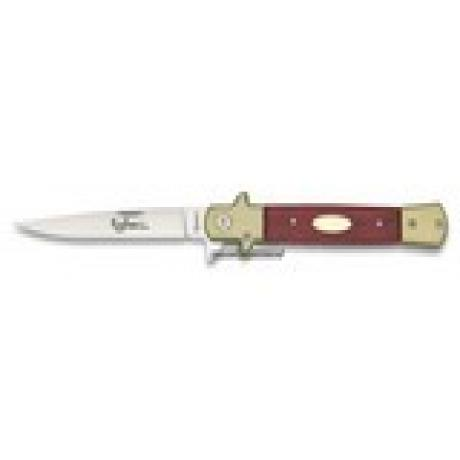weapon: (7, 186, 460, 269)
